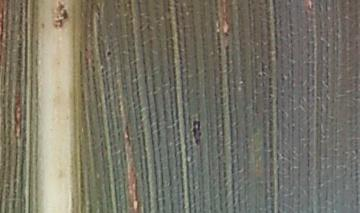tarspot: (188, 118, 205, 148), (105, 48, 113, 58)
